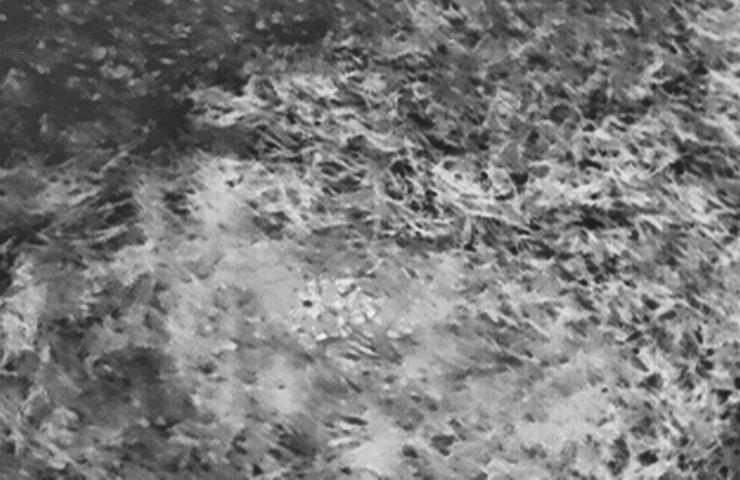landmines: (279, 263, 384, 350)
